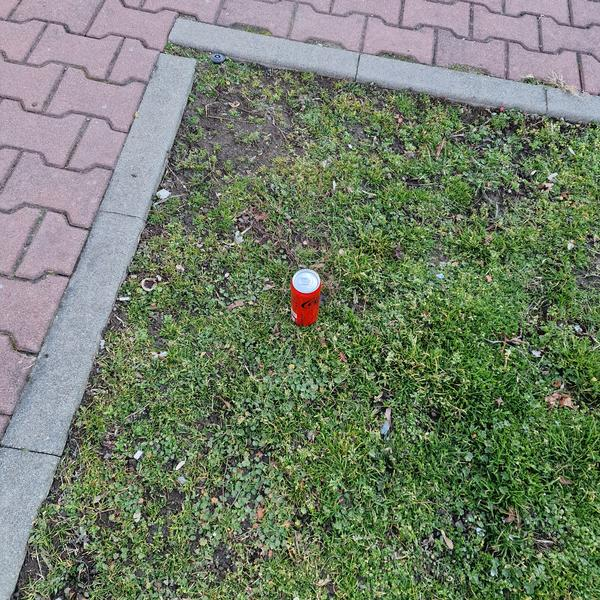can: (291, 268, 320, 327)
